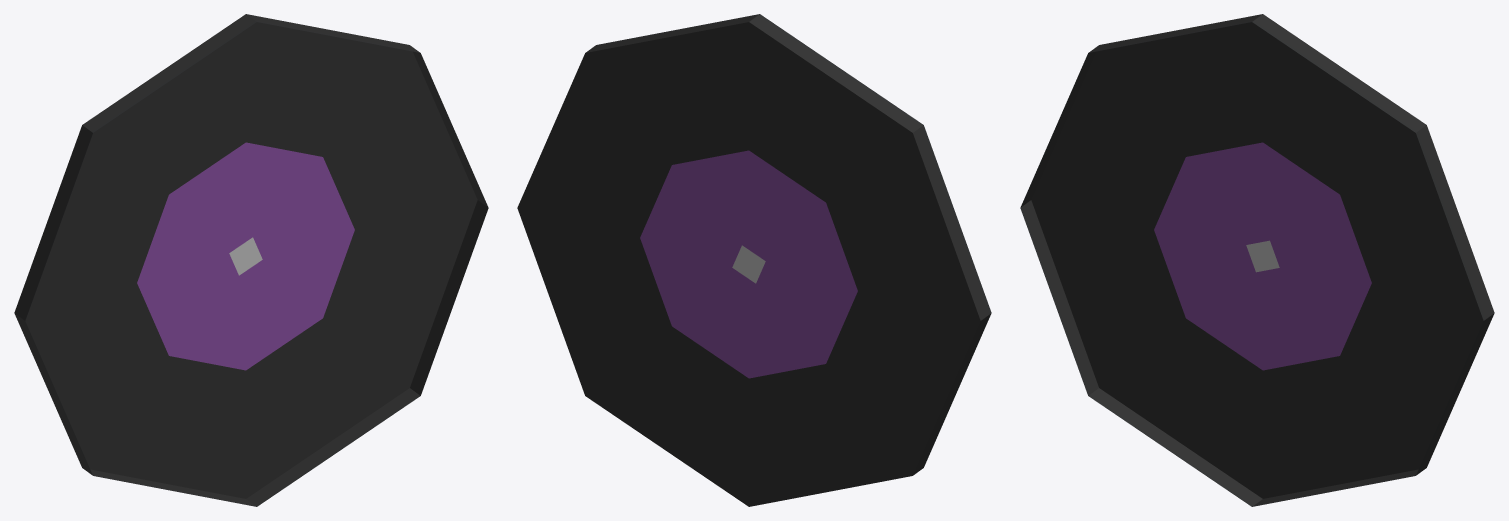
Rendered from disc03.fbx.
3 renders of one model, left to right at view 1: azimuth 30°, elevation 25°; view 2: azimuth 150°, elevation 25°; view 3: azimuth 330°, elevation 25°, orthographic.
Visible parts, largest first — view 1: disc03; view 2: disc03; view 3: disc03.
Boxes of the visible parts, <box> form: disc03: <box>14,14,488,506</box>; disc03: <box>517,14,991,506</box>; disc03: <box>1020,14,1494,506</box>.
Bounding box in the file's own units: 172 × 172 × 7.03.
